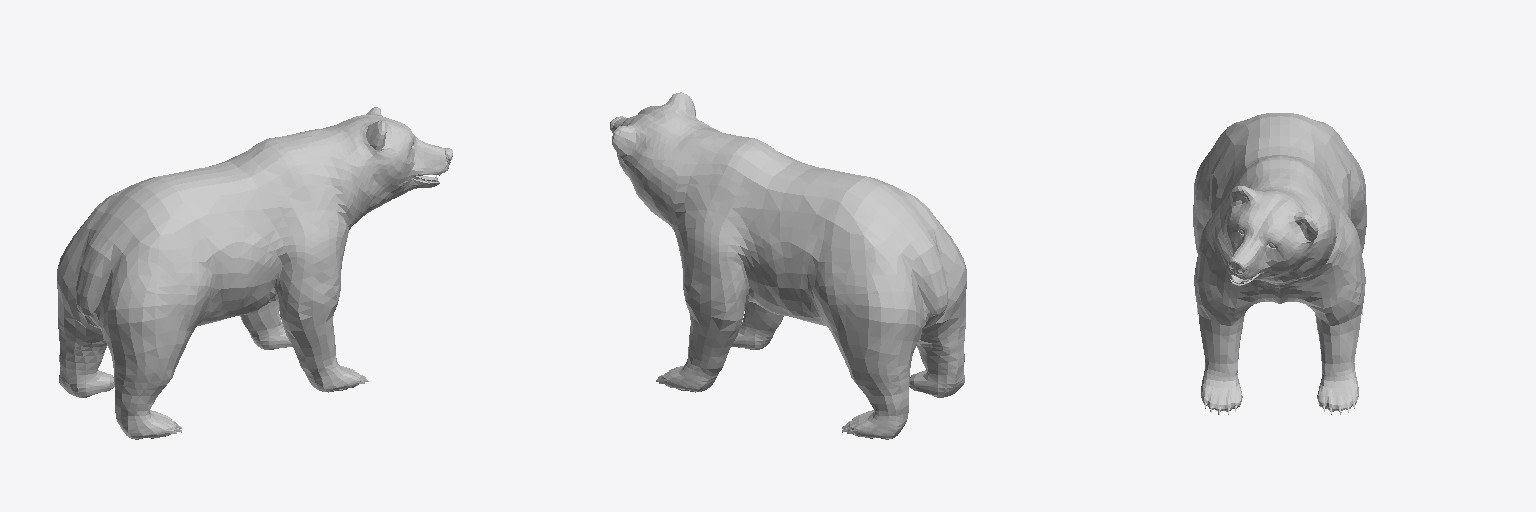
File: polar_bear.obj
3 renders of one model, left to right at view 1: azimuth 30°, elevation 25°; view 2: azimuth 150°, elevation 25°; view 3: azimuth 270°, elevation 25°, orthographic.
Visible parts, largest first — view 1: B2Figure_2.001; view 2: B2Figure_2.001; view 3: B2Figure_2.001.
Boxes of the visible parts, x1=… form: B2Figure_2.001: x1=57, y1=107, x2=448, y2=438; B2Figure_2.001: x1=612, y1=92, x2=966, y2=438; B2Figure_2.001: x1=1193, y1=113, x2=1366, y2=411.
Size of the model in its own units: 100 by 66.15 by 42.53.